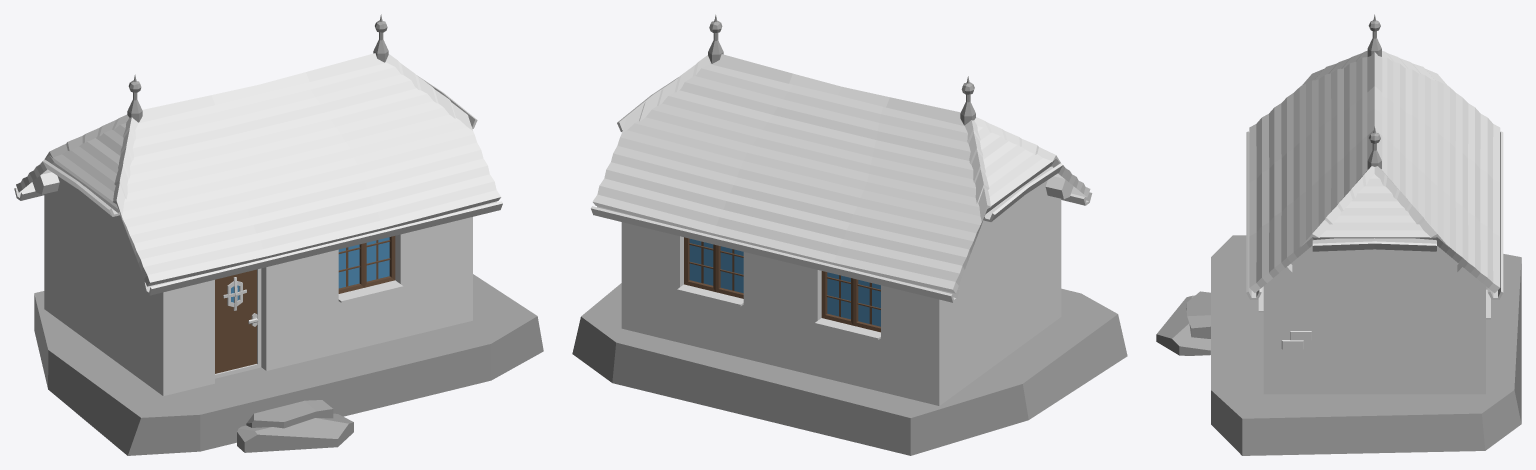
Rendered from house-vineyard01.fbx.
The picture shows the model from 3 angles, left to right: view 1: azimuth 30°, elevation 25°; view 2: azimuth 150°, elevation 25°; view 3: azimuth 270°, elevation 25°; orthographic projection. The views are drawn at different scales.
Visible parts, largest first — view 1: house-vineyard01; view 2: house-vineyard01; view 3: house-vineyard01.
Boxes of the visible parts, x1,y1,x2,y2 form: house-vineyard01: [14, 14, 543, 455]; house-vineyard01: [572, 14, 1127, 455]; house-vineyard01: [1156, 14, 1521, 455].
Size of the model in its own units: 8.13 by 6.55 by 5.74.
